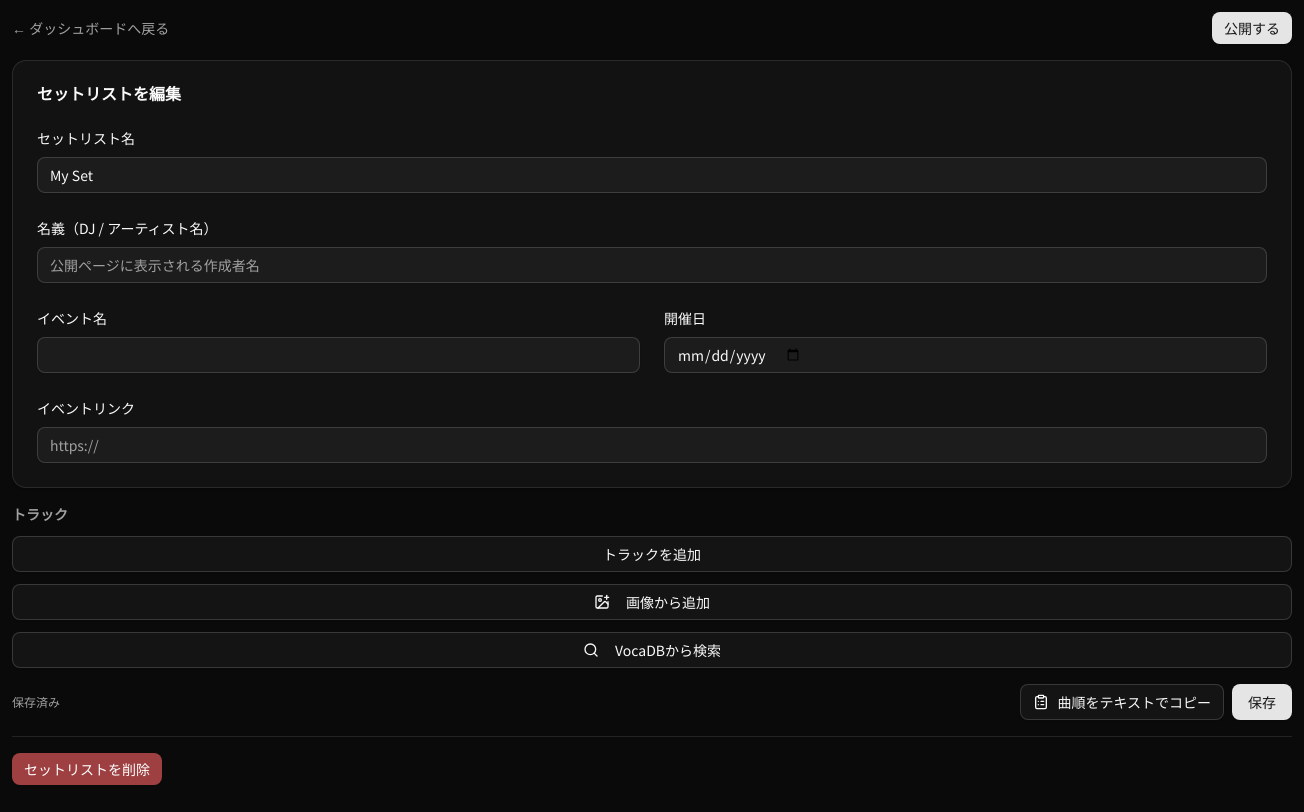
Test: SetlistEditor 未保存インジケーター › goes back to saved after a successful save
This screenshot has width=1304, height=812.
Check: the field labelled "セットリスト名" is shown, box [37,157,1267,193]
In the field labelled "イベント名": [338, 355] box [37,337,640,373], type "Club Night"
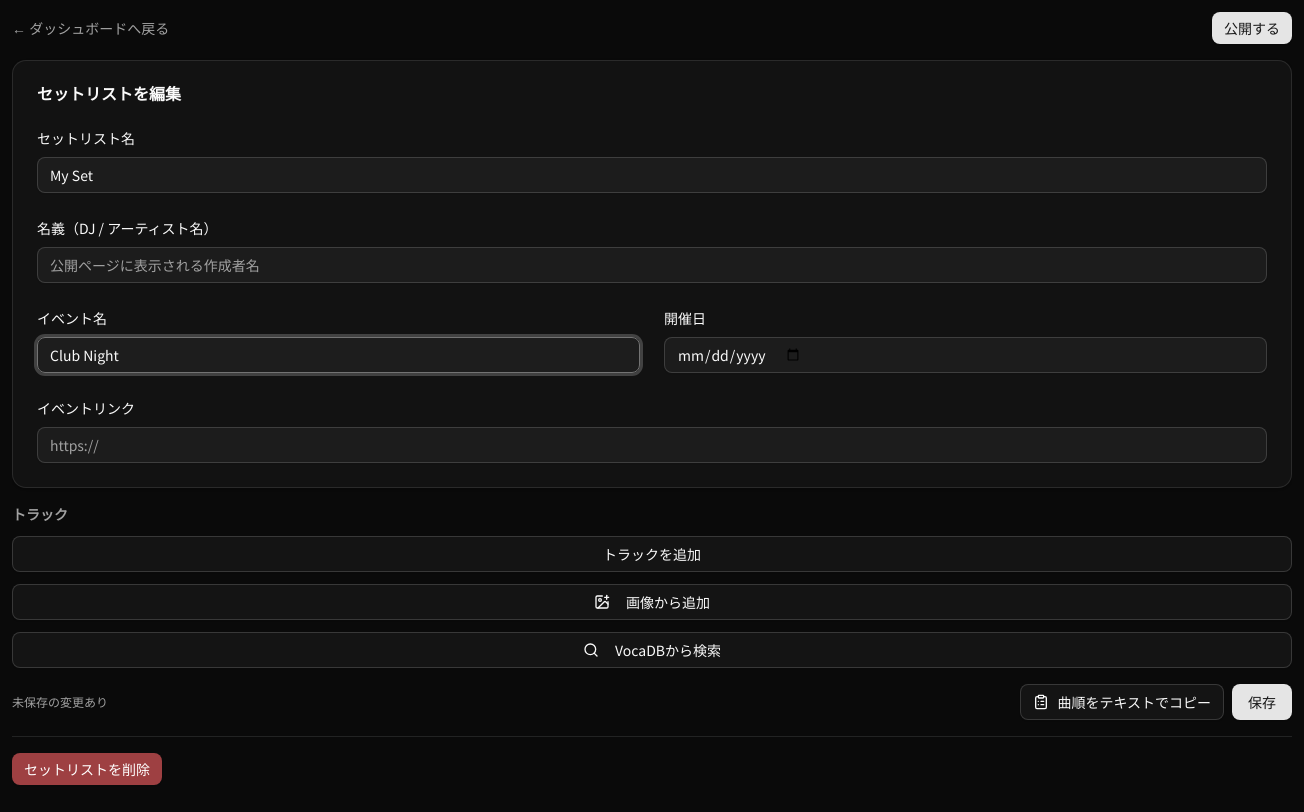
Click the button "保存": [1262, 702] box [1232,684,1292,720]
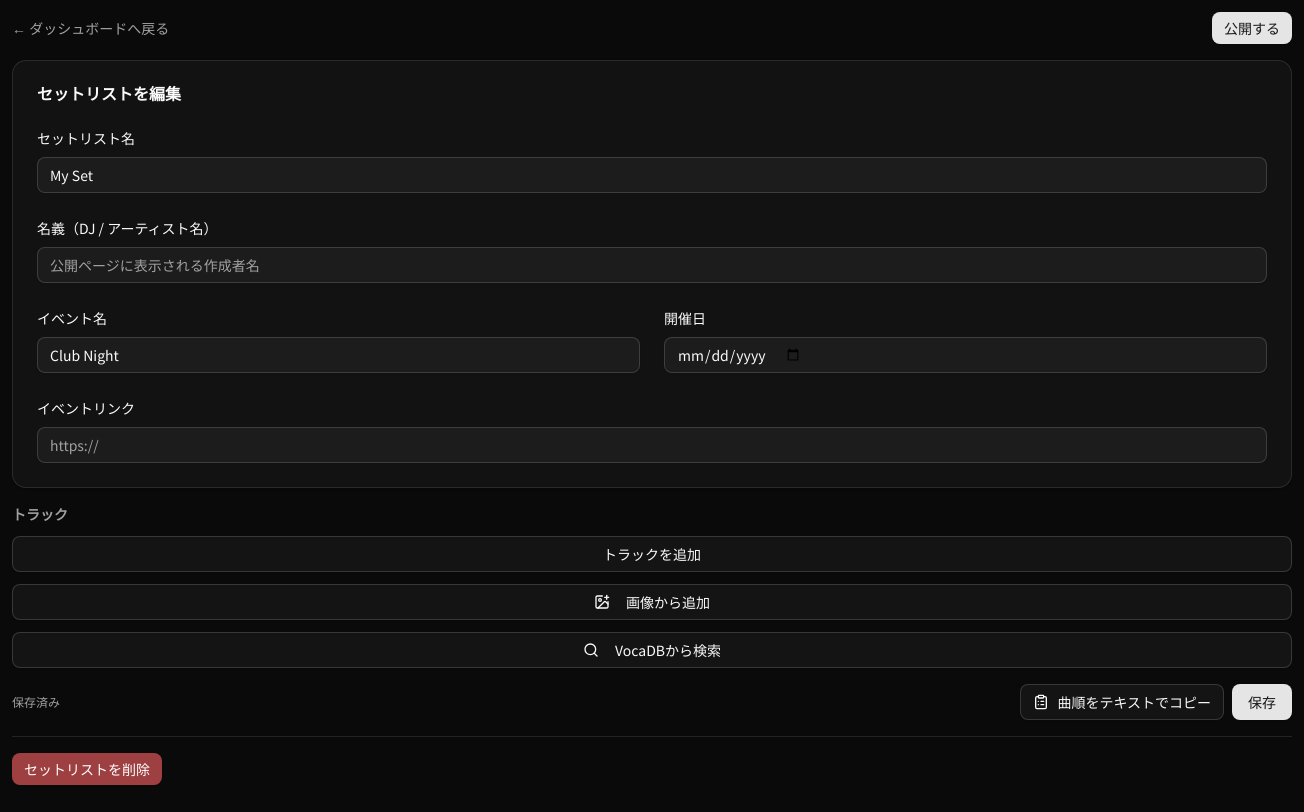
Check: the text "保存済み" is shown, box [12,694,60,710]
